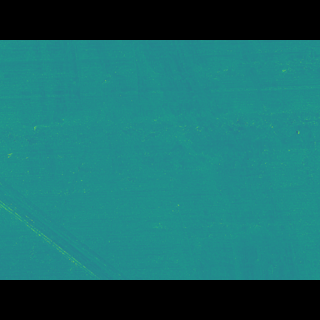Loch: (9, 67, 320, 172), (150, 84, 306, 250), (0, 167, 131, 249)
